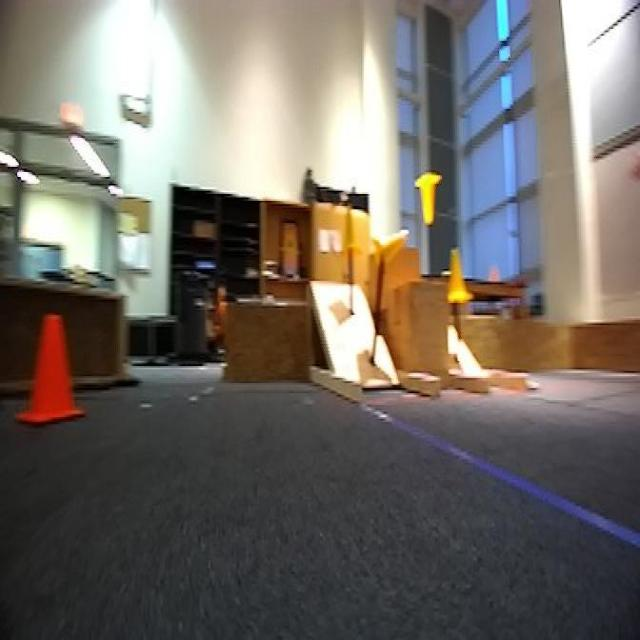frc_cone: (372, 226, 410, 276), (415, 167, 440, 226), (446, 245, 470, 301), (338, 203, 361, 250)
